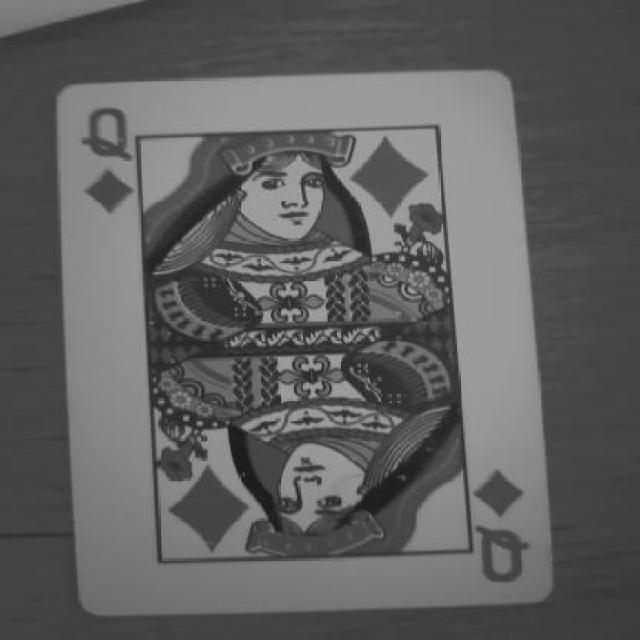QD: (440, 449, 546, 583), (67, 102, 161, 227)
